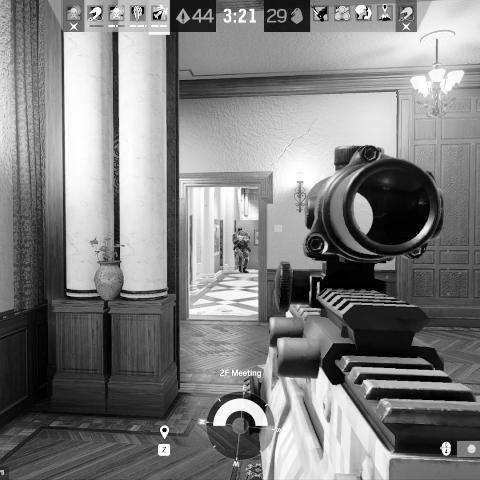Character: (231, 226, 253, 275)
Head: (238, 226, 244, 234)
